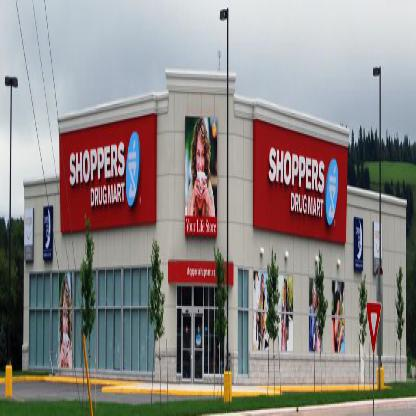face: (197, 132, 205, 185), (63, 288, 69, 341), (337, 300, 341, 335), (314, 288, 317, 308), (284, 282, 287, 296), (263, 276, 265, 293), (318, 296, 320, 309)
